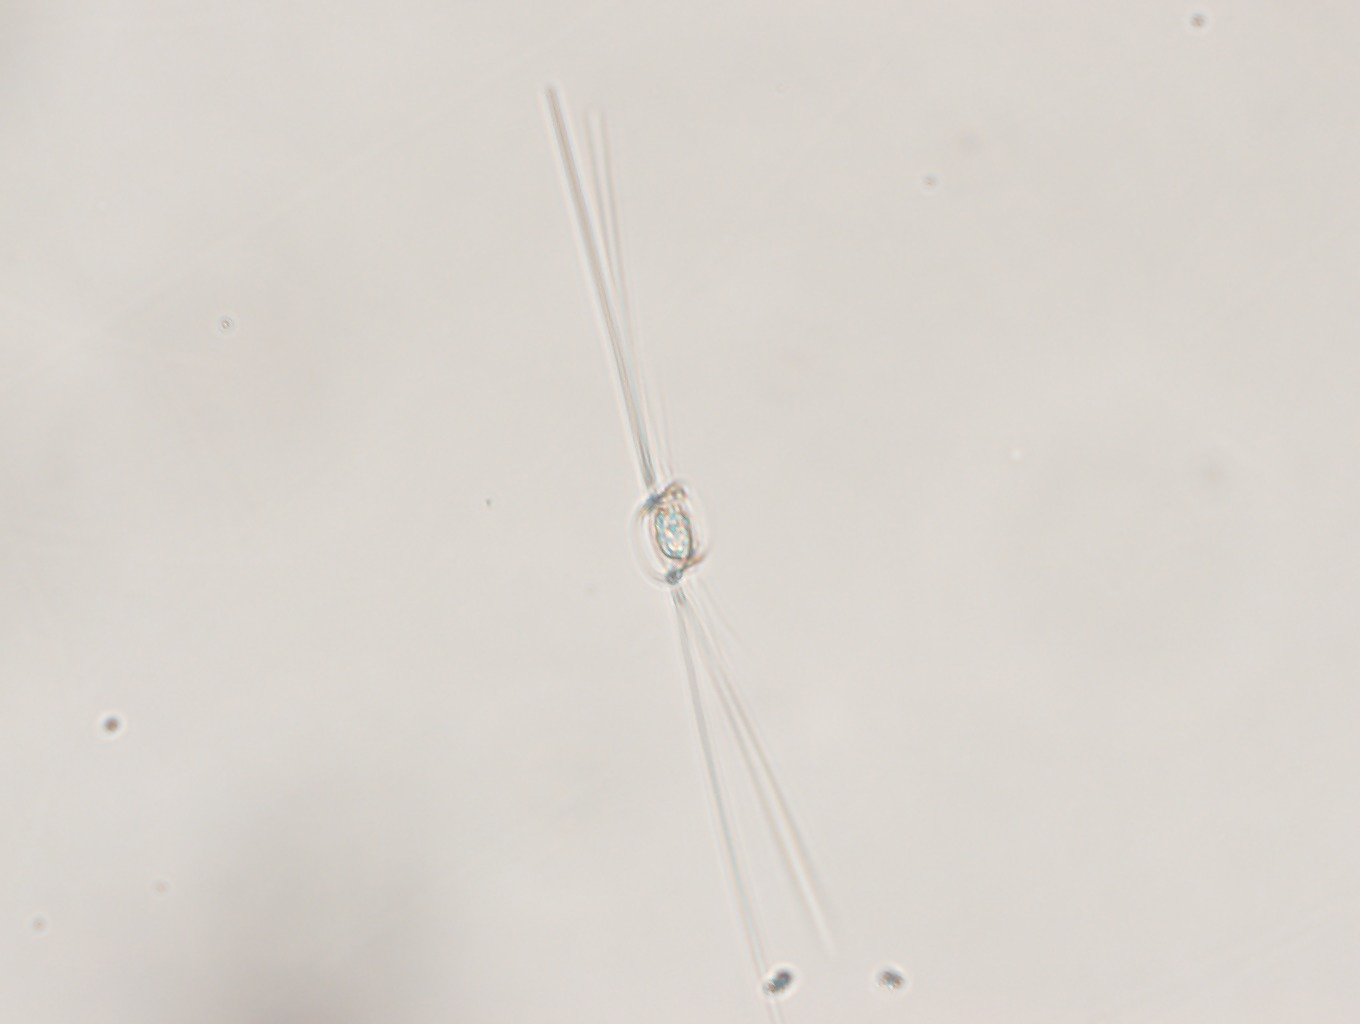chaetoceros: (531, 61, 861, 1002)
